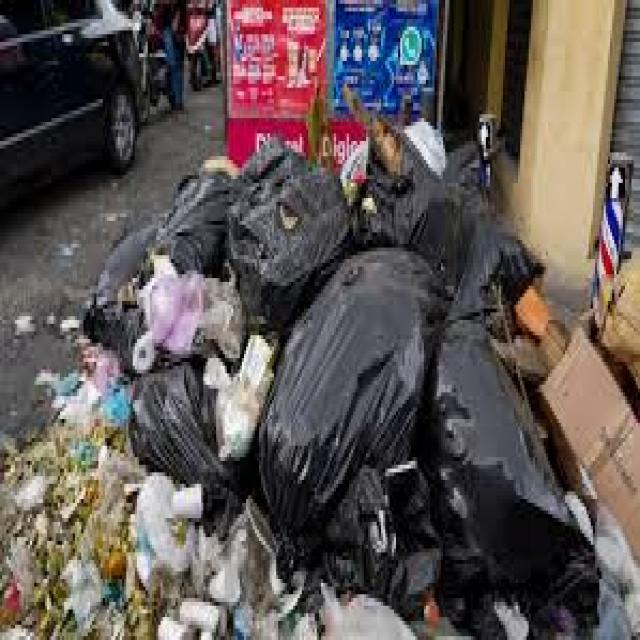garbage: (48, 118, 640, 640)
